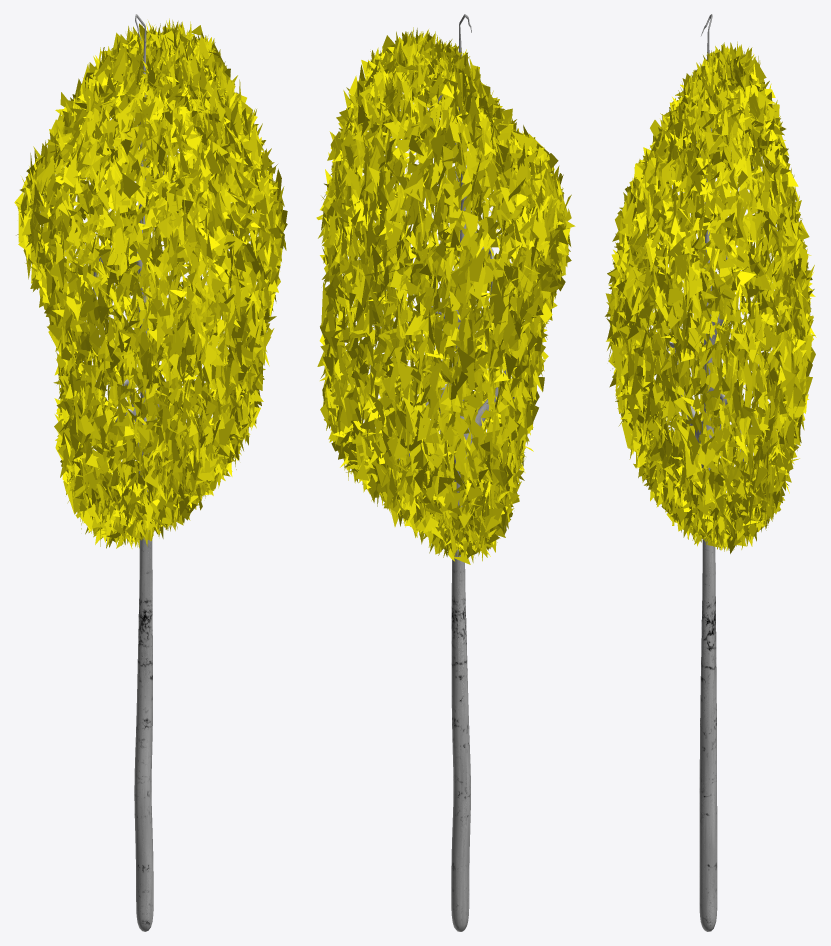
The model's file is Leaves15.001.fbx.
The picture shows the model from 3 angles, left to right: view 1: azimuth 30°, elevation 25°; view 2: azimuth 150°, elevation 25°; view 3: azimuth 270°, elevation 25°; orthographic projection.
Visible parts, largest first — view 1: Leaves15.001; view 2: Leaves15.001; view 3: Leaves15.001.
Part boxes in pixels (<box>): Leaves15.001: <box>14,14,287,931</box>; Leaves15.001: <box>316,14,575,931</box>; Leaves15.001: <box>605,14,816,931</box>.
Size of the model in its own units: 739 by 2612 by 550.
2 materials, 1 textured.
